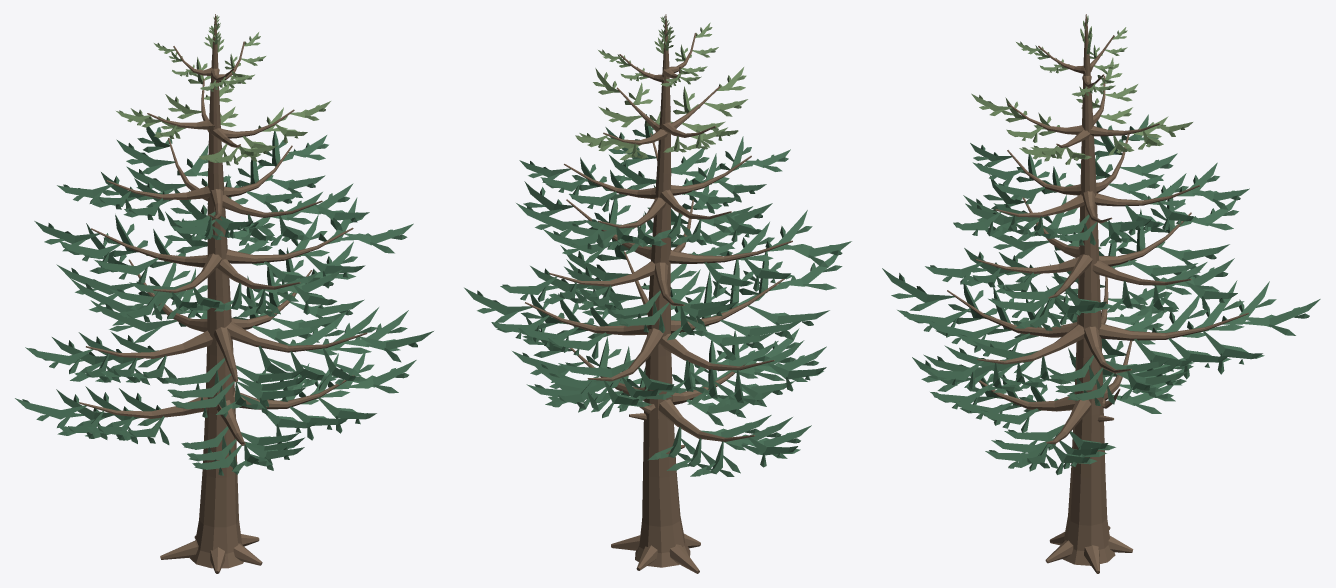
Rendered from conifer-tree.glb.
3 renders of one model, left to right at view 1: azimuth 30°, elevation 25°; view 2: azimuth 150°, elevation 25°; view 3: azimuth 270°, elevation 25°, orthographic.
Visible parts, largest first — view 1: Conifer | clustered narrow needle-bearing shoots, Conifer | editable woody axis boughs and collars; view 2: Conifer | clustered narrow needle-bearing shoots, Conifer | editable woody axis boughs and collars; view 3: Conifer | clustered narrow needle-bearing shoots, Conifer | editable woody axis boughs and collars.
Boxes of the visible parts, x1,y1,x2,y2 form: Conifer | clustered narrow needle-bearing shoots: (15, 15, 433, 475); Conifer | editable woody axis boughs and collars: (79, 14, 367, 573); Conifer | clustered narrow needle-bearing shoots: (464, 16, 851, 476); Conifer | editable woody axis boughs and collars: (525, 14, 792, 573); Conifer | clustered narrow needle-bearing shoots: (882, 15, 1320, 474); Conifer | editable woody axis boughs and collars: (947, 14, 1248, 573).
Size of the model in its own units: 4.71 by 7.04 by 5.22.
